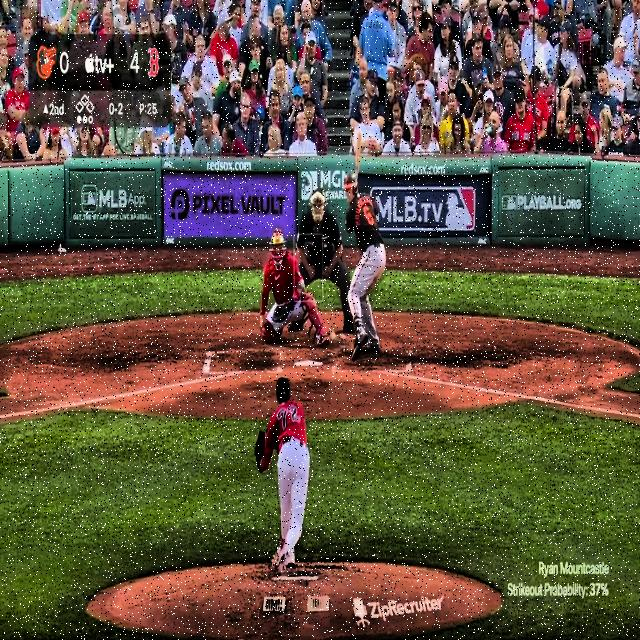baseball: (328, 328, 337, 343)
